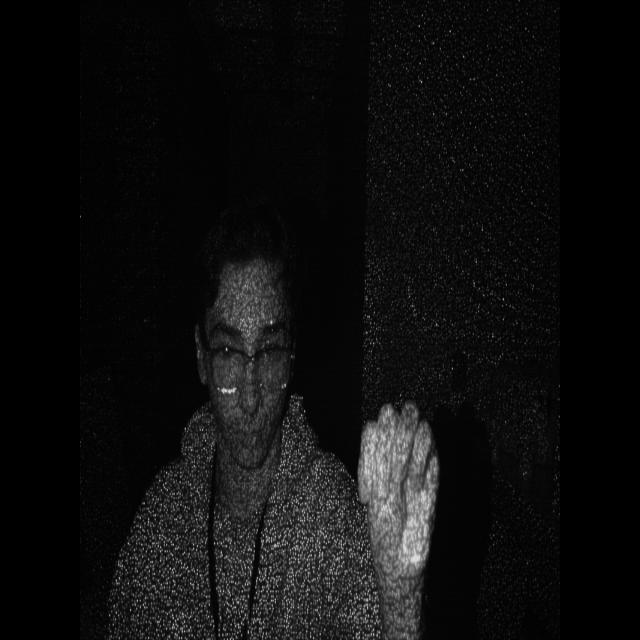E: (352, 382, 448, 612)
